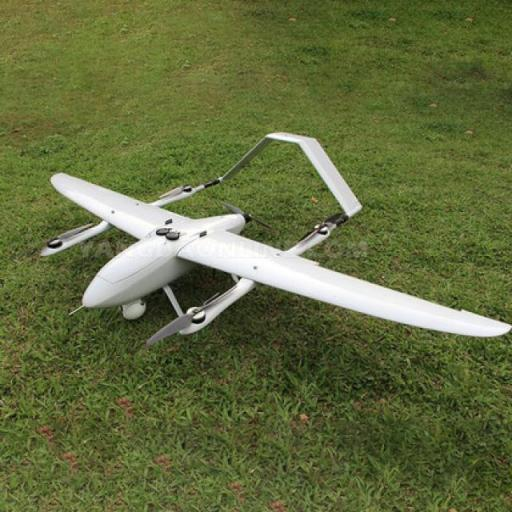uav: (31, 126, 512, 369)
